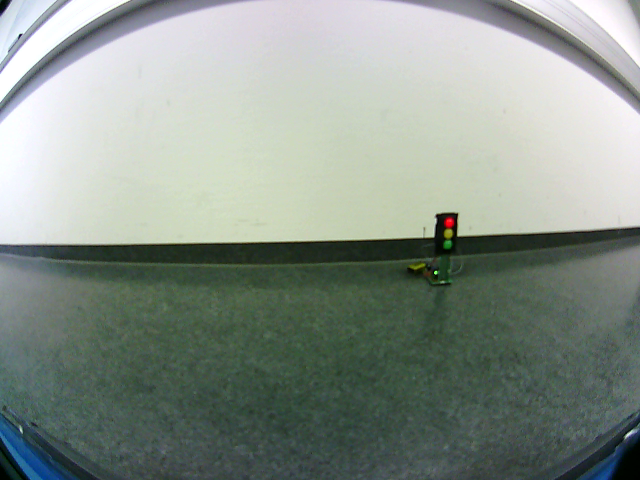red trafficlight: (438, 215, 457, 254)
